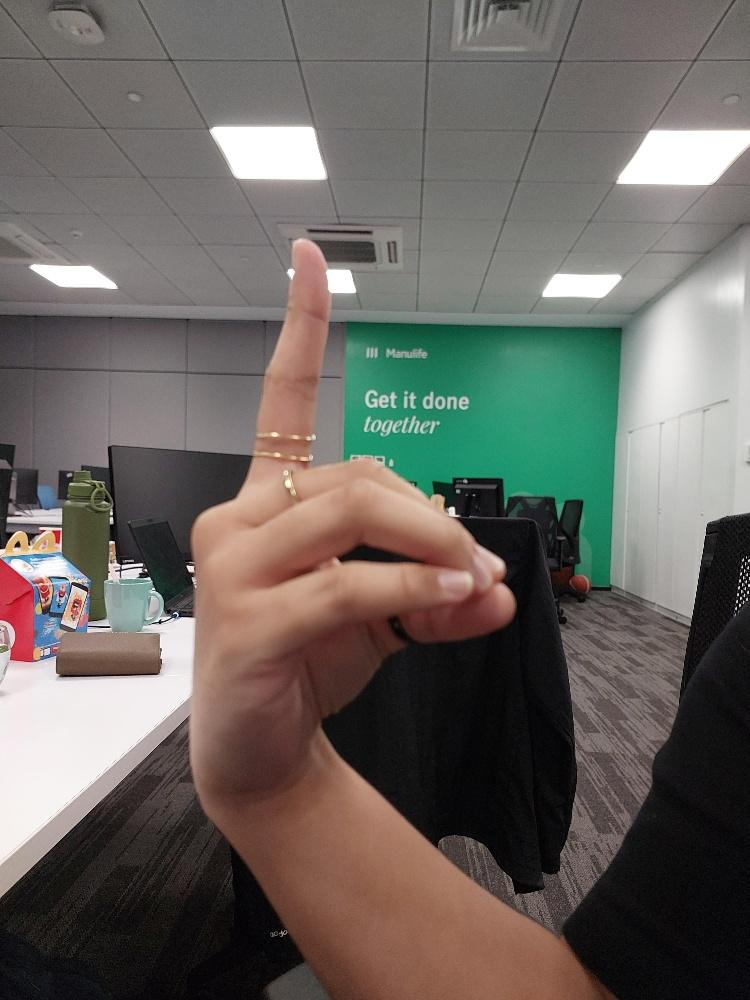d: (185, 236, 520, 799)
